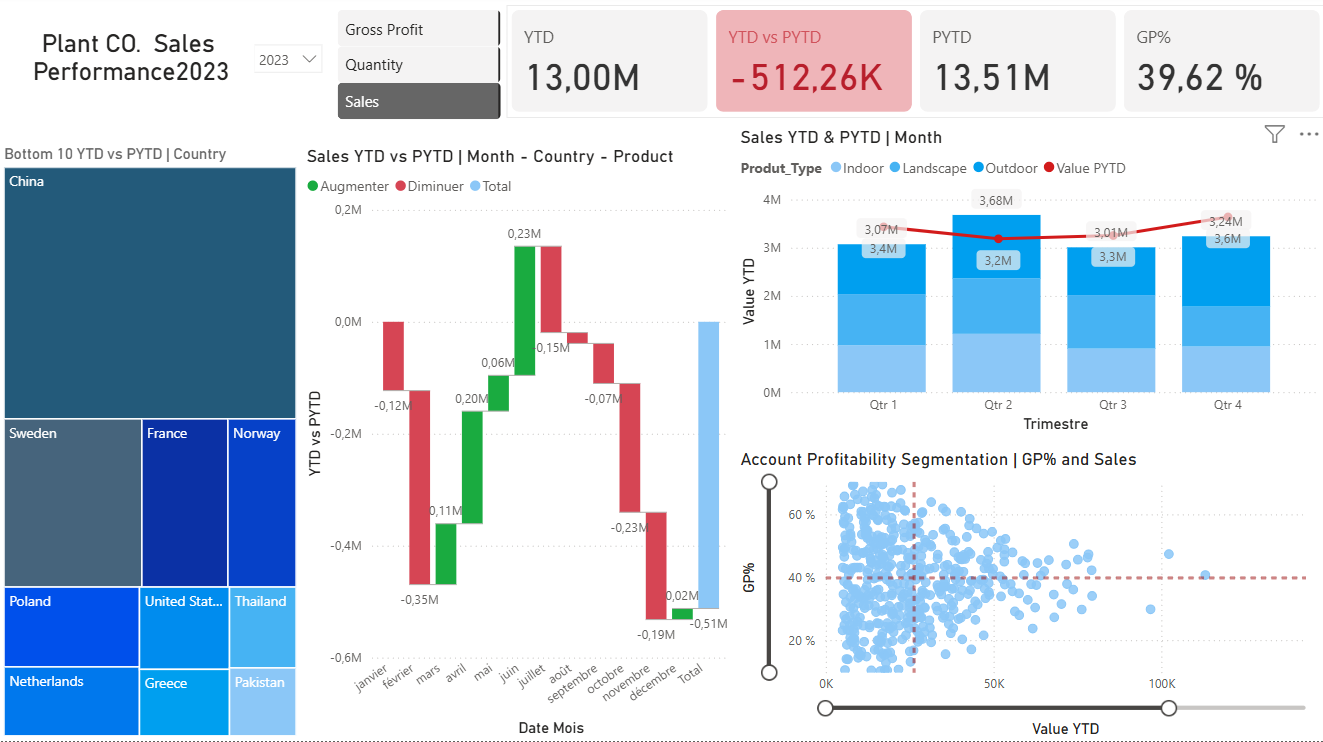

The dashboard page shown, as its layout file describes it:
{"tool":"powerbi","page":{"name":"Page 1","canvas":[1280,720],"ordinal":0},"visuals":[{"type":"cardVisual","fields":{"Data":["_Measures.S_YTD","_Measures.YTD vs PYTD","_Measures.S_PYTD","_Measures.GP%"]},"box":[489.9,9.6,790.4,108.4],"z":0},{"type":"advancedSlicerVisual","fields":{"Values":["Slc_Values.Values"]},"box":[322.5,9.6,167.4,116.6],"z":1000},{"type":"slicer","fields":{"Values":["Dim_Date.Date.Variation.Hiérarchie de dates.Année"]},"box":[235.3,37.4,86.9,59.1],"z":2000},{"type":"treemap","title":"Bottom 10 YTD vs PYTD | Country","fields":{"Values":["_Measures.YTD vs PYTD"],"Group":["Dim_Account.country"]},"box":[0,144.8,292,575.5],"z":3000},{"type":"waterfallChart","fields":{"Y":["_Measures.YTD vs PYTD"],"Category":["Dim_Date.Date.Variation.Hiérarchie de dates.Mois","Dim_Account.country","Dim_Product.Produt_Type","Dim_Product.Product_Name"]},"box":[292,144.8,418.6,575.5],"z":4000},{"type":"lineStackedColumnComboChart","fields":{"Y":["_Measures.S_YTD"],"Y2":["_Measures.S_PYTD"],"Category":["Dim_Date.Date.Variation.Hiérarchie de dates.Trimestre","Dim_Date.Date.Variation.Hiérarchie de dates.Mois"],"Series":["Dim_Product.Produt_Type"]},"box":[710.6,126.7,569.4,300.4],"z":5000},{"type":"scatterChart","fields":{"Y":["_Measures.GP%"],"X":["_Measures.S_YTD"],"Category":["Dim_Account.Account"]},"box":[710.6,437.9,569.4,282.3],"z":6000},{"type":"card","fields":{"Values":["_Measures._Report title"]},"box":[9.7,0,236.5,118.2],"z":7000}]}

Visuals, with their boxes in screenshot pixels (x1, y1, x2, y2), scaled from the page's 1280x720 canvas onto the 1323x742 screenshot:
cardVisual - _Measures.S_YTD x _Measures.YTD vs PYTD: BBox(506, 10, 1322, 122)
advancedSlicerVisual - Slc_Values.Values: BBox(333, 10, 506, 130)
slicer - Dim_Date.Date.Variation.Hiérarchie de dates.Année: BBox(243, 39, 333, 99)
"Bottom 10 YTD vs PYTD | Country" treemap: BBox(0, 149, 302, 741)
waterfallChart - _Measures.YTD vs PYTD x Dim_Date.Date.Variation.Hiérarchie de dates.Mois: BBox(302, 149, 734, 741)
lineStackedColumnComboChart - _Measures.S_YTD x _Measures.S_PYTD: BBox(734, 131, 1322, 440)
scatterChart - _Measures.GP% x _Measures.S_YTD: BBox(734, 451, 1322, 741)
card - _Measures._Report title: BBox(10, 0, 254, 122)
